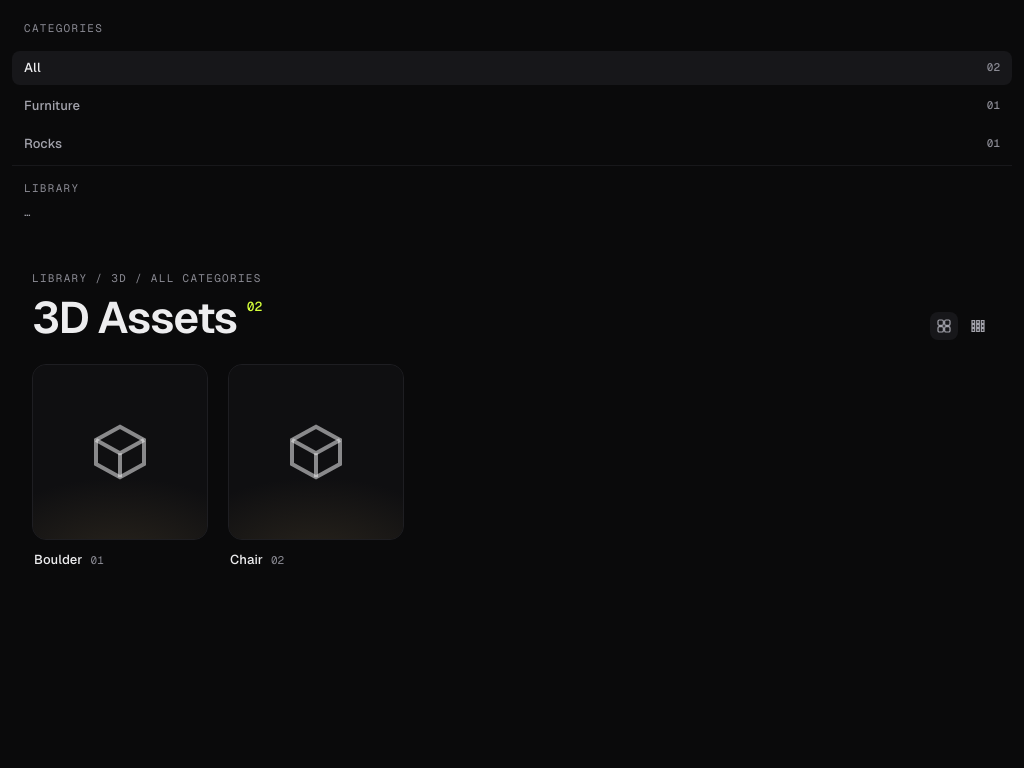
Scenario: clicking category filters grid
Expected: the text "Chair" is shown, [230,550,263,570]
Click the button "Rocks 01". click: coordinates (43, 143)
box: [12,126,1012,160]
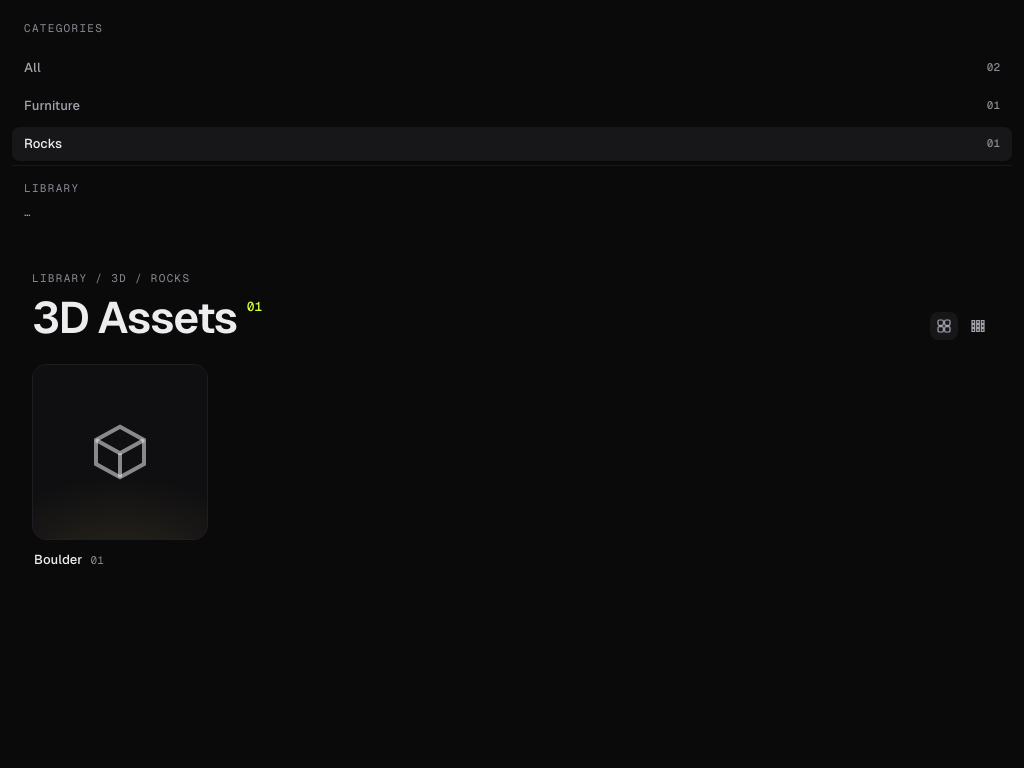
Expected: the text "Boulder" is shown, [34,550,82,570]
Expected: the button "Chair" is gone
